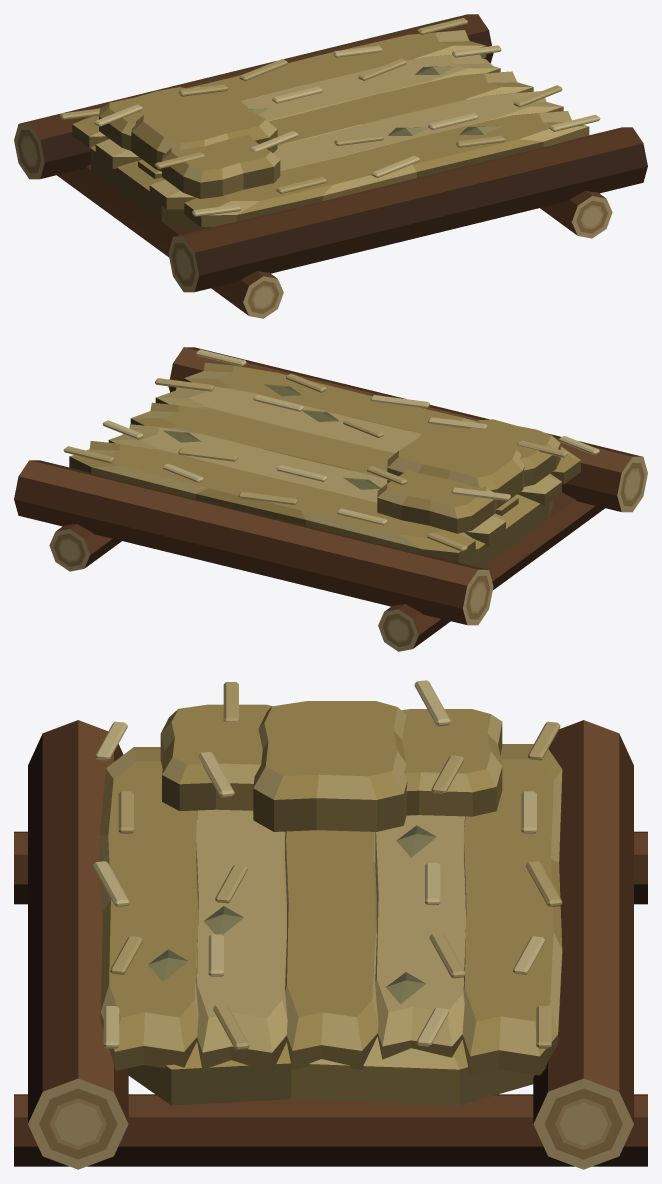
File: log_bed.glb
The picture shows the model from 3 angles, top to bottom: view 1: azimuth 30°, elevation 25°; view 2: azimuth 150°, elevation 25°; view 3: azimuth 270°, elevation 25°; orthographic projection. The views are drawn at different scales.
Parts seen in each view (by area): view 1: log_bed; view 2: log_bed; view 3: log_bed.
Boxes of the visible parts, <box> form: log_bed: <box>14,14,647,318</box>; log_bed: <box>14,347,647,651</box>; log_bed: <box>14,680,647,1169</box>.
Bounding box in the file's own units: 3.96 × 1 × 2.96.
